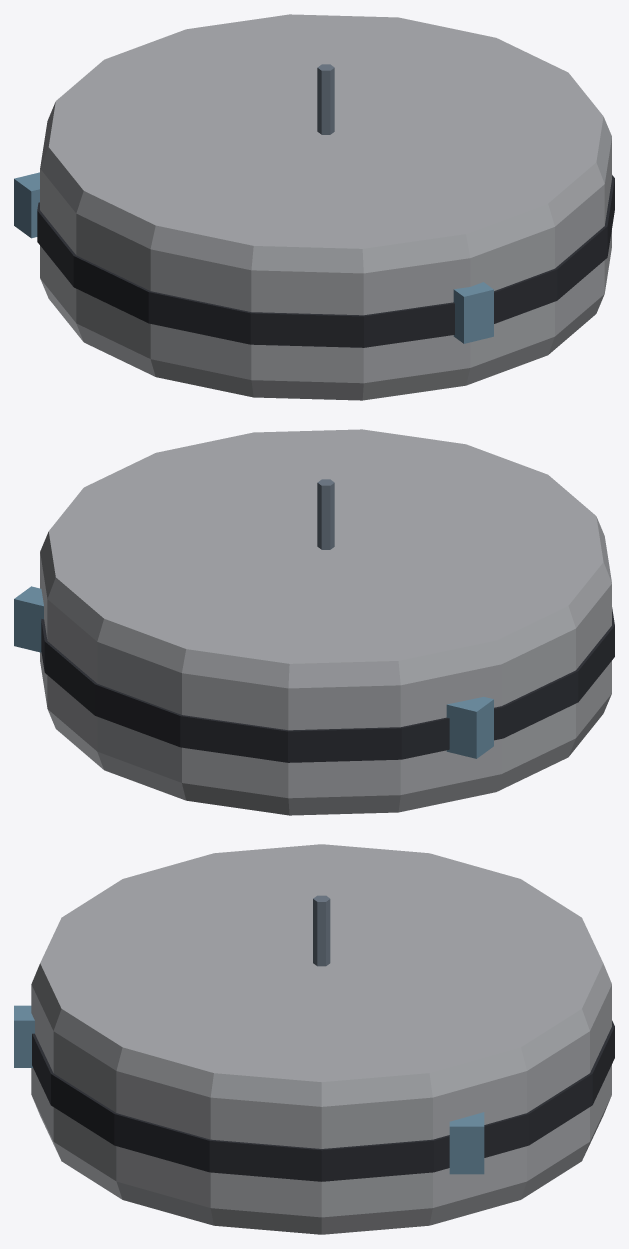
The model's file is Avi_M.fbx.
3 views of the same model, one above another, from view 1: azimuth 30°, elevation 25°; view 2: azimuth 150°, elevation 25°; view 3: azimuth 270°, elevation 25° (orthographic).
Parts seen in each view (by area): view 1: Avi_M; view 2: Avi_M; view 3: Avi_M.
Part boxes in pixels (<box>): Avi_M: <box>14,14,614,400</box>; Avi_M: <box>14,429,614,815</box>; Avi_M: <box>14,844,614,1234</box>.
Bounding box in the file's own units: 2.02 × 0.825 × 2.07.
1 material, 1 textured.
